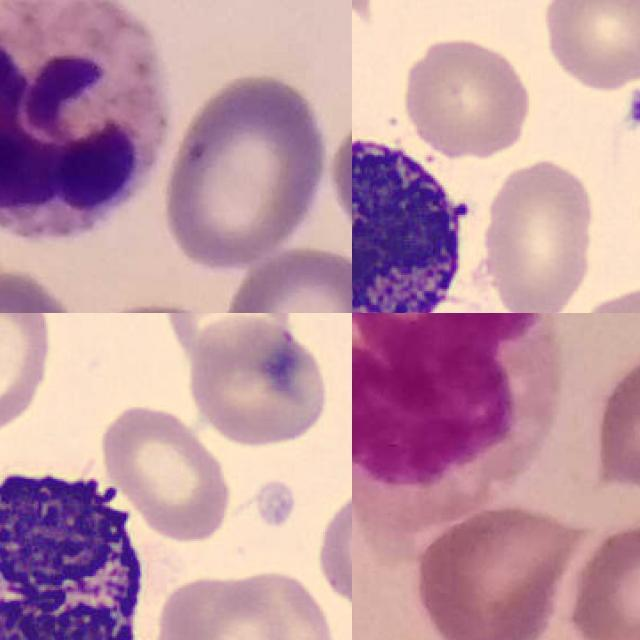Basophil: (0, 449, 166, 640), (352, 118, 475, 313)
Monocyte: (352, 313, 562, 482)
Neutrophil: (0, 0, 167, 236)
RBC: (181, 313, 332, 451), (476, 154, 602, 313), (96, 398, 234, 541), (400, 34, 535, 161), (149, 570, 293, 640), (211, 562, 337, 640), (536, 0, 640, 93), (156, 313, 294, 378), (0, 313, 53, 435), (314, 479, 352, 630)
